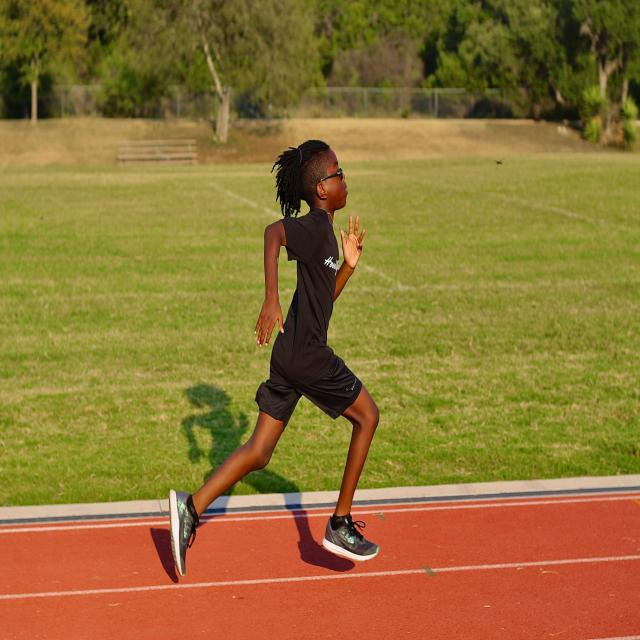running: (163, 135, 385, 582)
